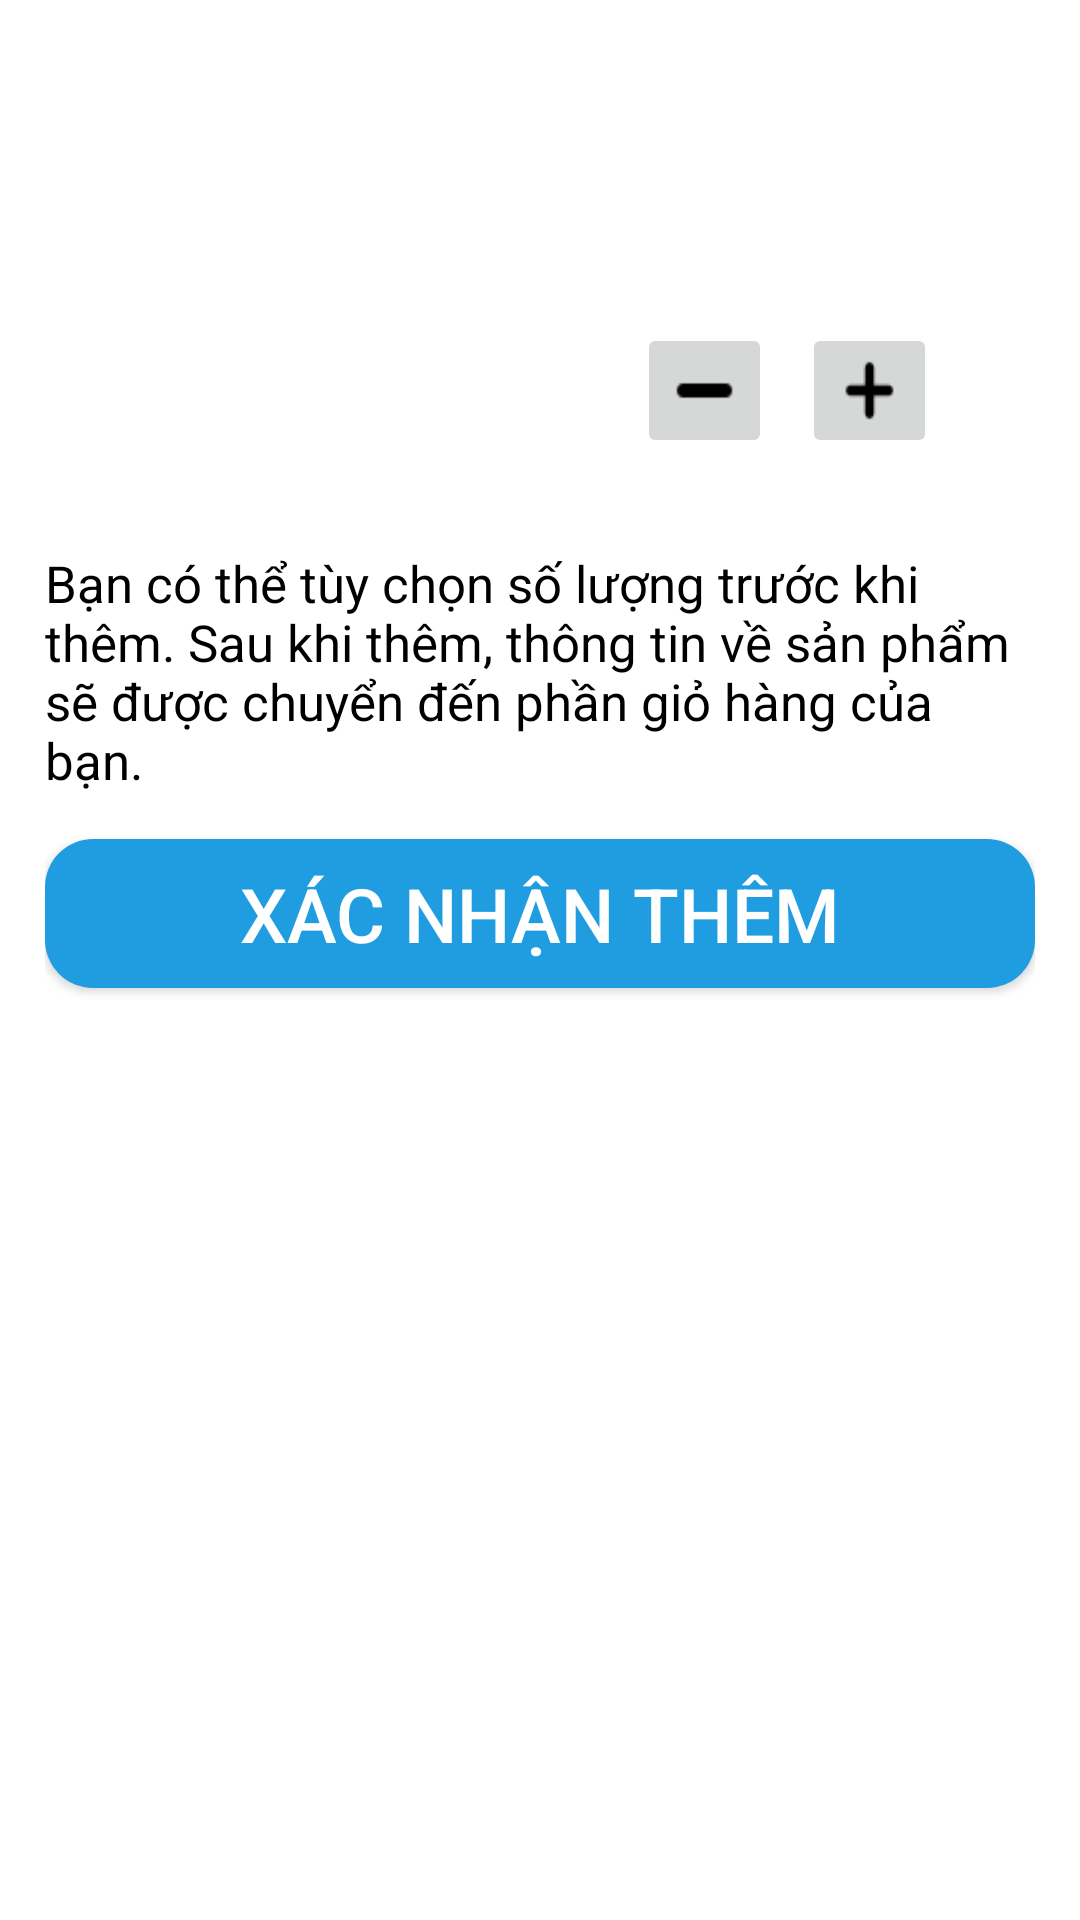

Named icons in this screenshot (1080x1920) and their centers, point (x, y):
minus: point (704, 390)
plus: point (869, 390)
